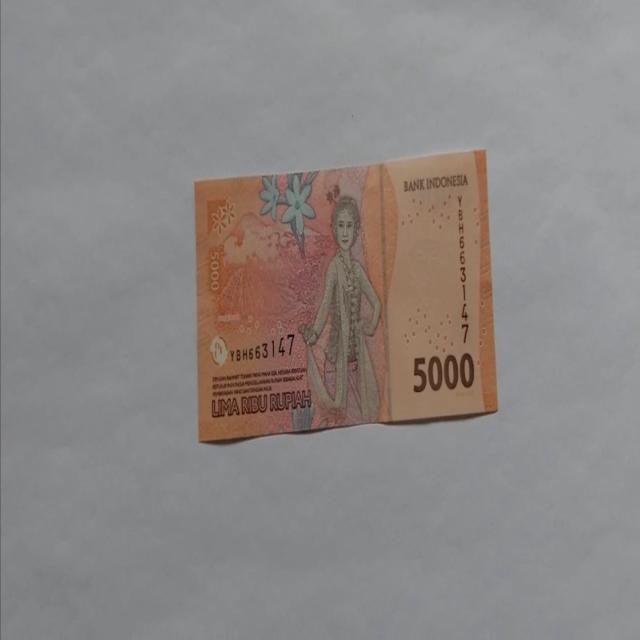lima ribu rupiah: (194, 148, 498, 442), (297, 194, 383, 426)
